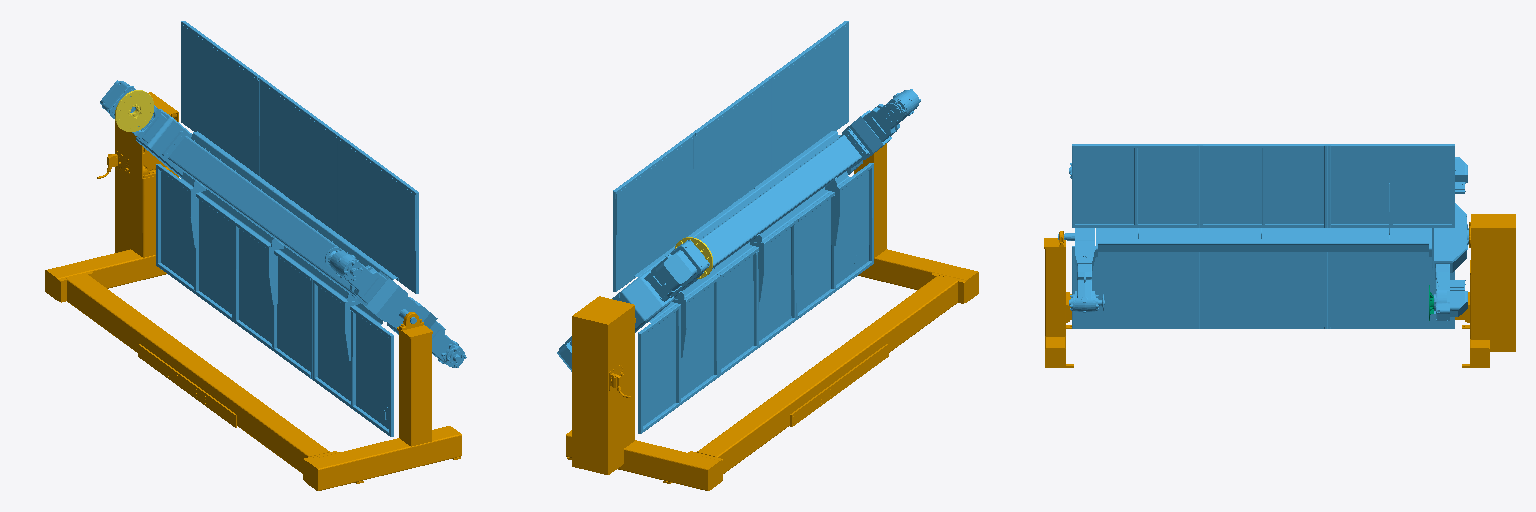
robot.urdf — Irbpk_1000_D1400_L4000:
<?xml version="1.0" ?>
<robot name="Irbpk_1000_D1400_L4000">

<link name="base_link">
  <inertial>
    <origin xyz="0.23042351780719422 -1.1157099250004654 0.5213410312460245" rpy="0 0 0"/>
    <mass value="7772.070990703518"/>
    <inertia ixx="40207.77574" iyy="3995.056393" izz="40119.452799" ixy="-2718.434448" iyz="-3155.351609" ixz="-1182.438643"/>
  </inertial>
  <visual>
    <origin xyz="0 0 0" rpy="0 0 0"/>
    <geometry>
      <mesh filename="meshes/base_link.stl" scale="0.001 0.001 0.001"/>
    </geometry>
  </visual>
  <collision>
    <origin xyz="0 0 0" rpy="0 0 0"/>
    <geometry>
      <mesh filename="meshes/base_link.stl" scale="0.001 0.001 0.001"/>
    </geometry>
  </collision>
</link>

<link name="Component3_1">
  <inertial>
    <origin xyz="3.6578585647095707e-06 -2.2233367425147663 -9.8223522360108e-07" rpy="0 0 0"/>
    <mass value="6433.130450599848"/>
    <inertia ixx="20349.992579" iyy="1389.97677" izz="19893.048403" ixy="-0.045407" iyz="0.013463" ixz="351.376754"/>
  </inertial>
  <visual>
    <origin xyz="-0.633753 -0.496 -1.57" rpy="0 0 0"/>
    <geometry>
      <mesh filename="meshes/Component3_1.stl" scale="0.001 0.001 0.001"/>
    </geometry>
  </visual>
  <collision>
    <origin xyz="-0.633753 -0.496 -1.57" rpy="0 0 0"/>
    <geometry>
      <mesh filename="meshes/Component3_1.stl" scale="0.001 0.001 0.001"/>
    </geometry>
  </collision>
</link>

<link name="Component2_1">
  <inertial>
    <origin xyz="0.0007711972128723321 -0.04356786560053656 -0.000801559378911576" rpy="0 0 0"/>
    <mass value="21.250303833372275"/>
    <inertia ixx="0.229977" iyy="0.446816" izz="0.229868" ixy="-0.000404" iyz="0.00042" ixz="0.001418"/>
  </inertial>
  <visual>
    <origin xyz="-1.230079 -0.0622 -0.950326" rpy="0 0 0"/>
    <geometry>
      <mesh filename="meshes/Component2_1.stl" scale="0.001 0.001 0.001"/>
    </geometry>
  </visual>
  <collision>
    <origin xyz="-1.230079 -0.0622 -0.950326" rpy="0 0 0"/>
    <geometry>
      <mesh filename="meshes/Component2_1.stl" scale="0.001 0.001 0.001"/>
    </geometry>
  </collision>
</link>

<link name="Component1_1">
  <inertial>
    <origin xyz="-0.0007717476706504273 -0.043567865600522226 0.000801559379125738" rpy="0 0 0"/>
    <mass value="21.25030383337226"/>
    <inertia ixx="0.229977" iyy="0.446816" izz="0.229868" ixy="0.000404" iyz="-0.00042" ixz="0.001418"/>
  </inertial>
  <visual>
    <origin xyz="-0.037428 -0.0622 -2.189674" rpy="0 0 0"/>
    <geometry>
      <mesh filename="meshes/Component1_1.stl" scale="0.001 0.001 0.001"/>
    </geometry>
  </visual>
  <collision>
    <origin xyz="-0.037428 -0.0622 -2.189674" rpy="0 0 0"/>
    <geometry>
      <mesh filename="meshes/Component1_1.stl" scale="0.001 0.001 0.001"/>
    </geometry>
  </collision>
</link>

<joint name="j1" type="continuous">
  <origin xyz="0.633753 0.496 1.57" rpy="0 0 0"/>
  <parent link="base_link"/>
  <child link="Component3_1"/>
  <axis xyz="0.0 -1.0 0.0"/>
</joint>

<joint name="j2" type="continuous">
  <origin xyz="0.596326 -0.4338 -0.619674" rpy="0 0 0"/>
  <parent link="Component3_1"/>
  <child link="Component2_1"/>
  <axis xyz="0.0 1.0 -0.0"/>
</joint>

<joint name="j3" type="continuous">
  <origin xyz="-0.596325 -0.4338 0.619674" rpy="0 0 0"/>
  <parent link="Component3_1"/>
  <child link="Component1_1"/>
  <axis xyz="-0.0 1.0 0.0"/>
</joint>

</robot>

--- What the picture shows (computed from the rendered views, not written in the file) ---
The picture shows the robot from 3 angles, left to right: view 1: azimuth 30°, elevation 25°; view 2: azimuth 150°, elevation 25°; view 3: azimuth 270°, elevation 25°; orthographic projection.
Model Irbpk_1000_D1400_L4000 with 4 links and 3 joints (3 continuous), rooted at base_link, posed all joints at 0.
Visible links, largest first — view 1: Component3_1, base_link, Component1_1; view 2: Component3_1, base_link; view 3: Component3_1, base_link.
Boxes of the visible links, x1,y1,x2,y2 form: Component3_1: [100, 21, 466, 436]; base_link: [45, 92, 461, 490]; Component1_1: [115, 90, 153, 131]; Component3_1: [557, 21, 920, 433]; base_link: [566, 143, 978, 490]; Component3_1: [1058, 144, 1468, 328]; base_link: [1044, 214, 1515, 367].
Bounding box of the posed robot: 2.04 × 5.81 × 2.89 m (x, y, z).
4 mesh visuals loaded from 4 distinct referenced files (4 binary STL).